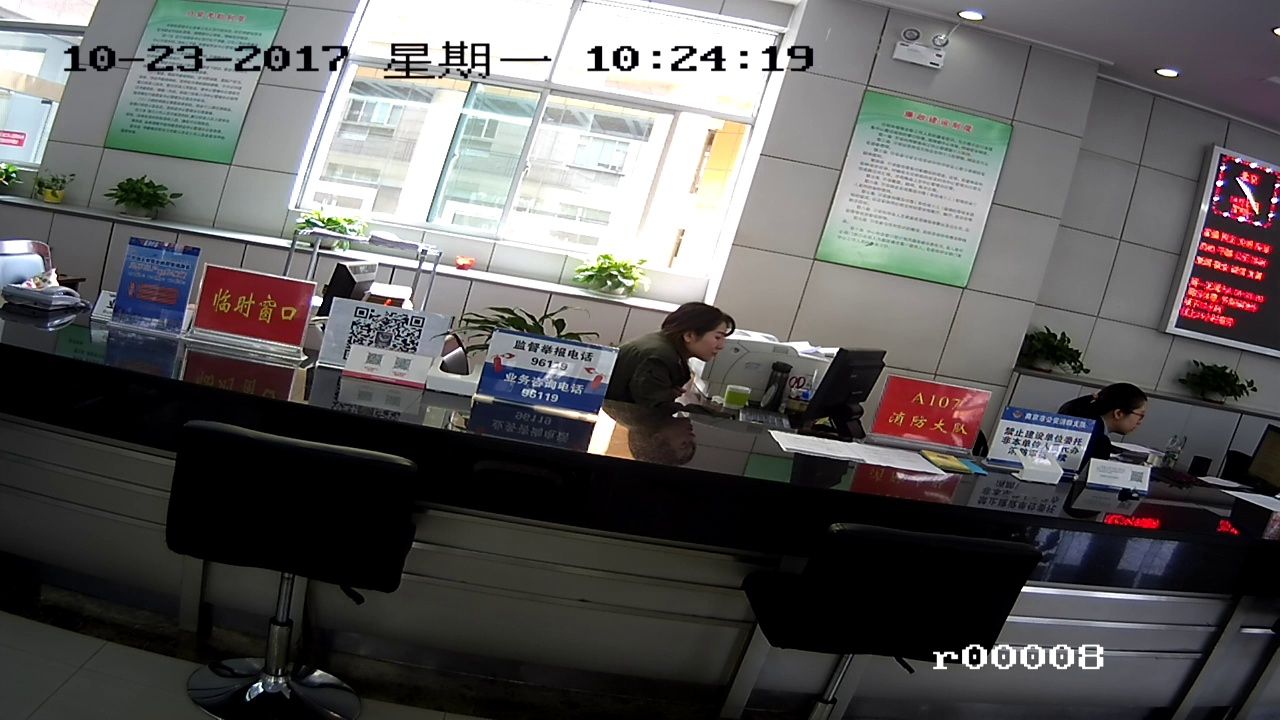billboard: (857, 93, 977, 288), (127, 4, 235, 170), (492, 335, 608, 414), (204, 268, 309, 351), (880, 380, 978, 454)
chair: (164, 422, 424, 713), (745, 508, 1049, 712)
monitor: (818, 341, 881, 459)
person: (639, 298, 735, 419), (1078, 384, 1159, 437)
pot: (98, 175, 174, 228), (575, 247, 639, 302), (1018, 325, 1082, 378), (1192, 364, 1248, 401), (304, 211, 347, 248)
